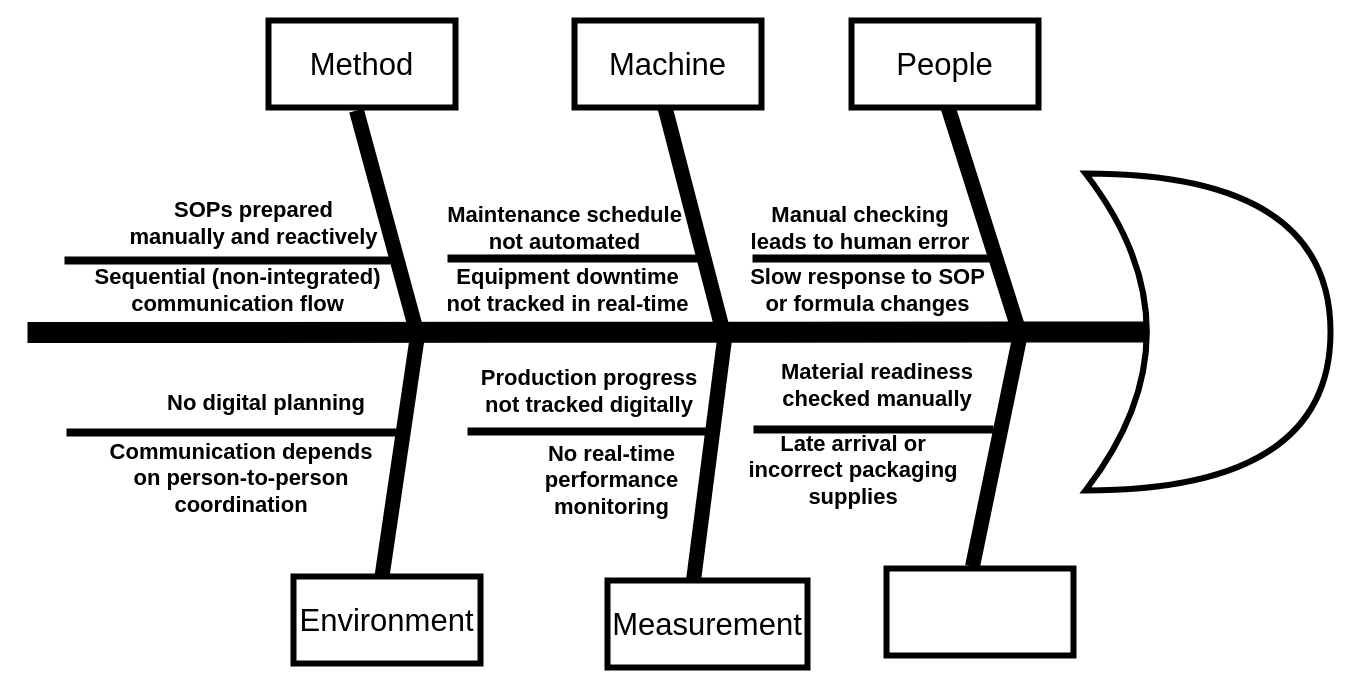
Some shapes in this 1351 by 687 pixel diagram are drawn without their labels. Here are the shapes that lost their labels. From the top down, the centre of each, then its label:
(x=1207, y=331): Production delay
(x=979, y=611): Material
